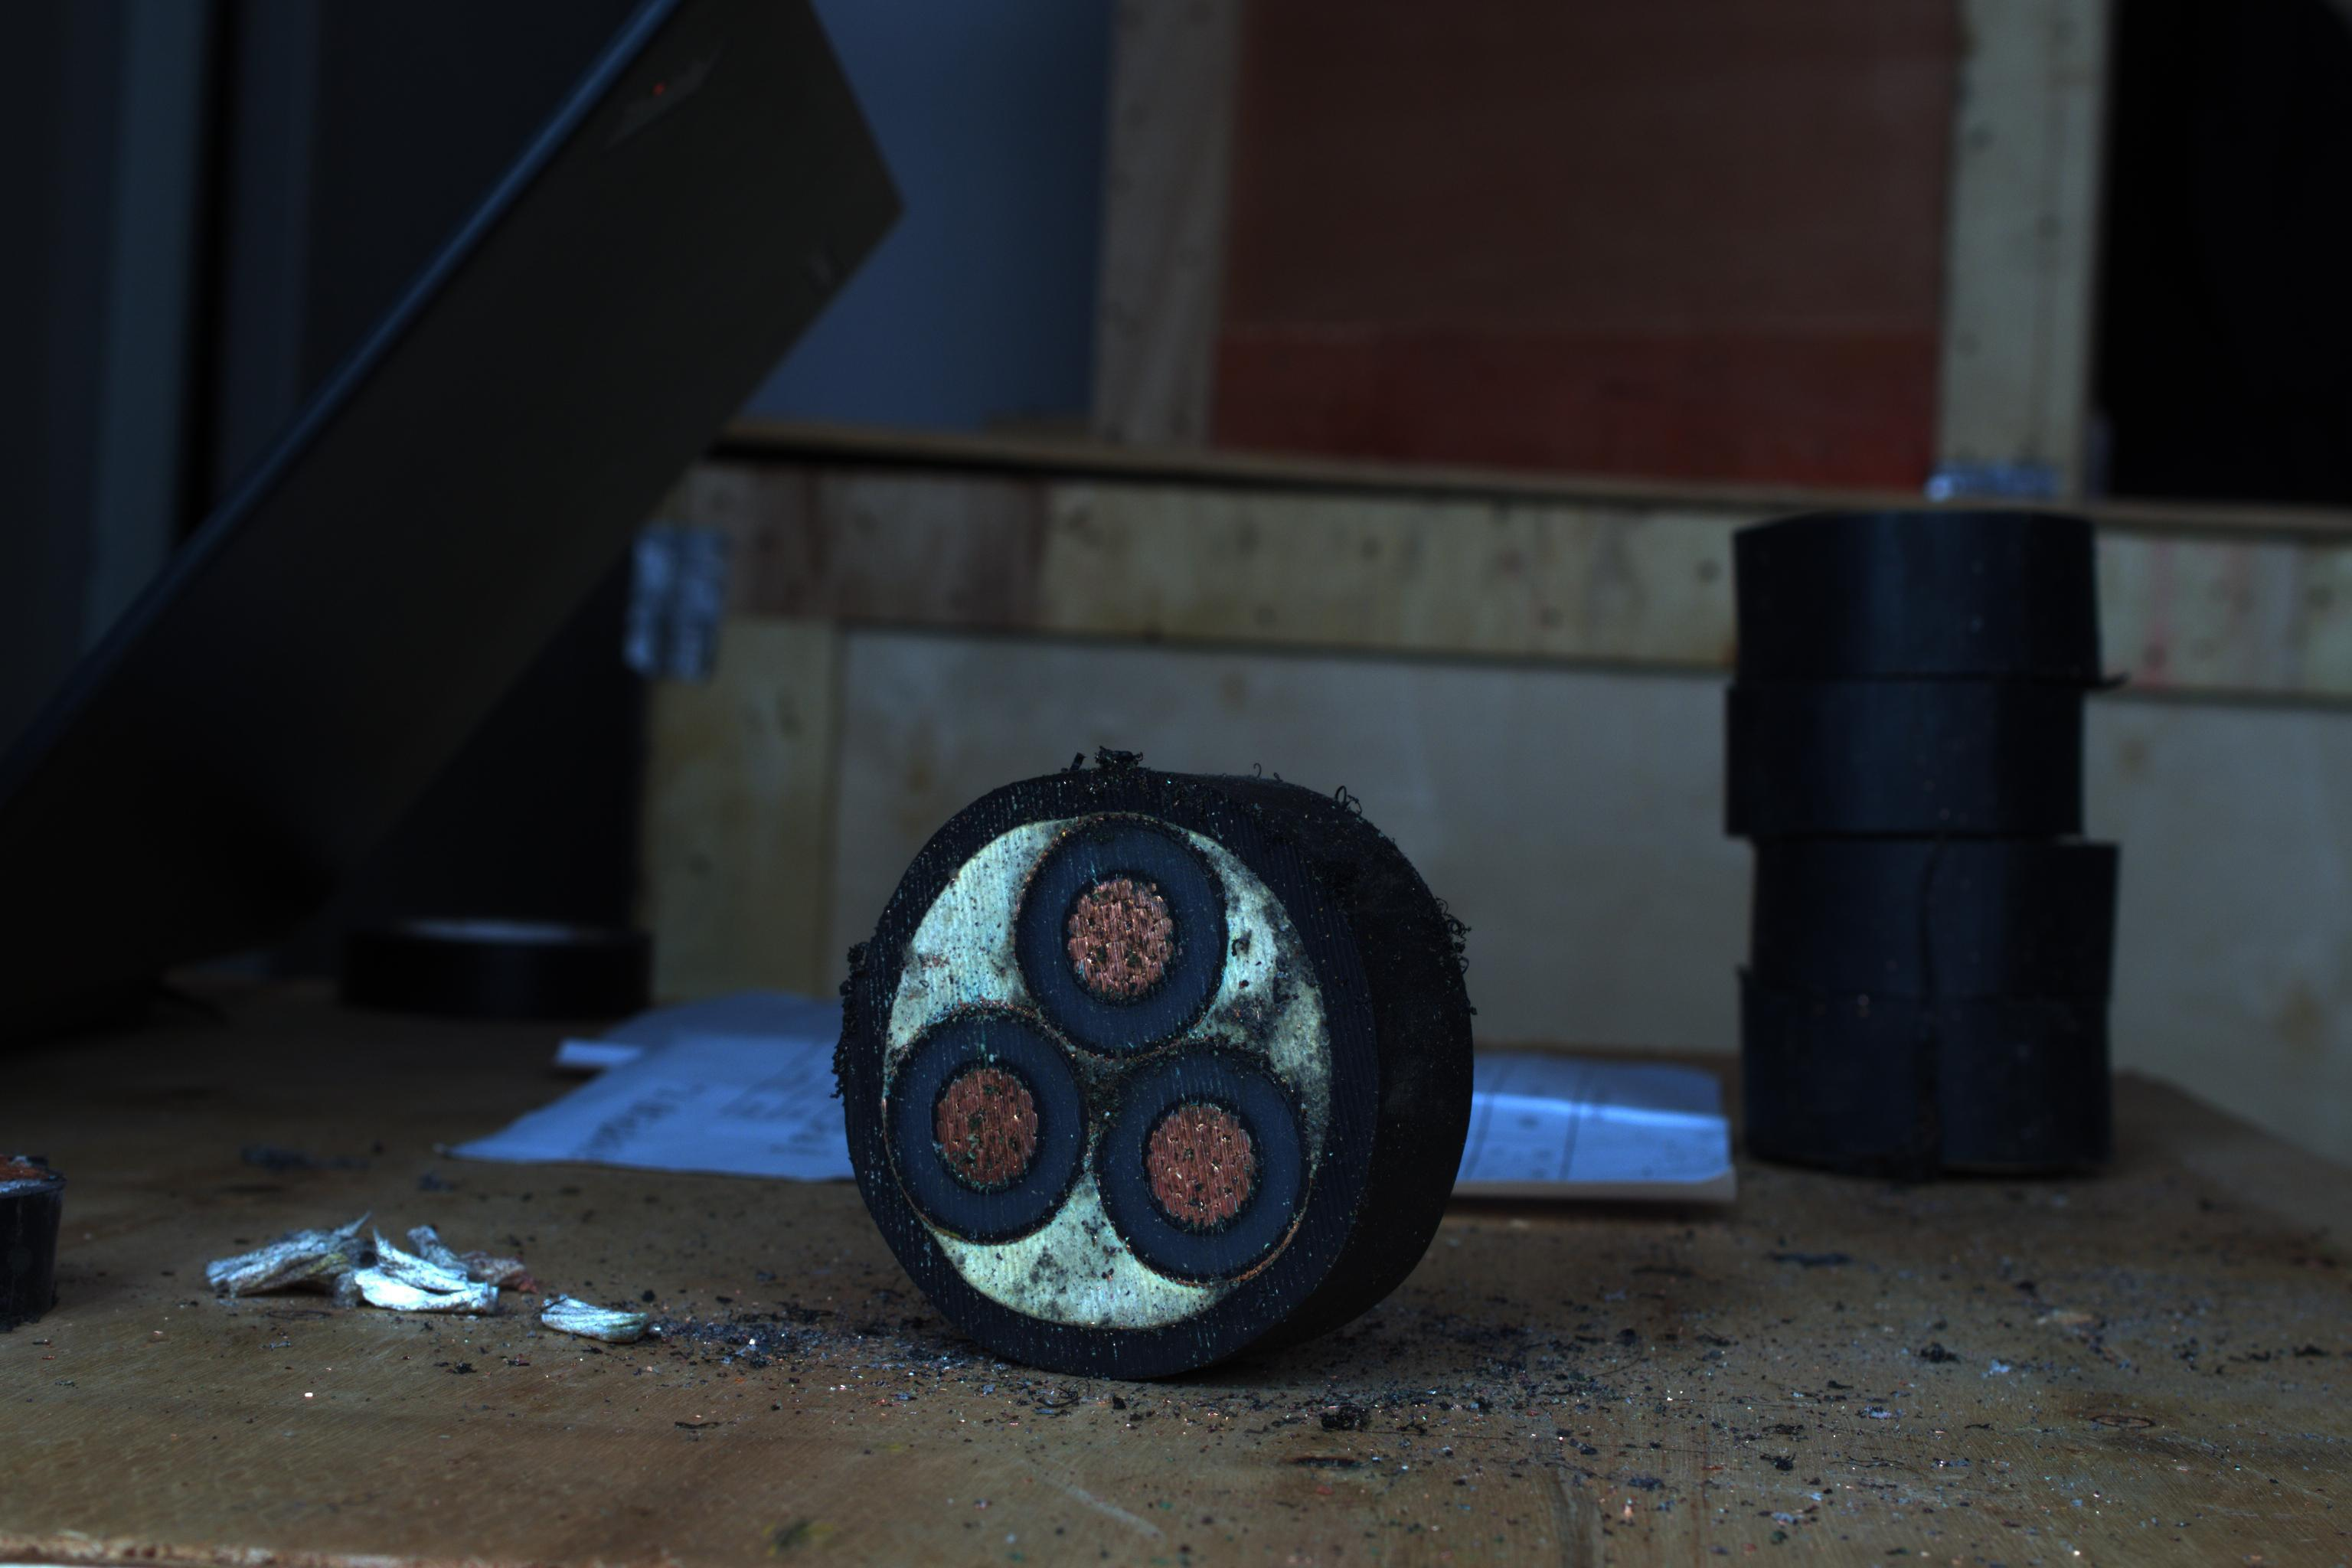ZA_YJV_8.7_10kV_3x120: (843, 766, 1356, 1360)
